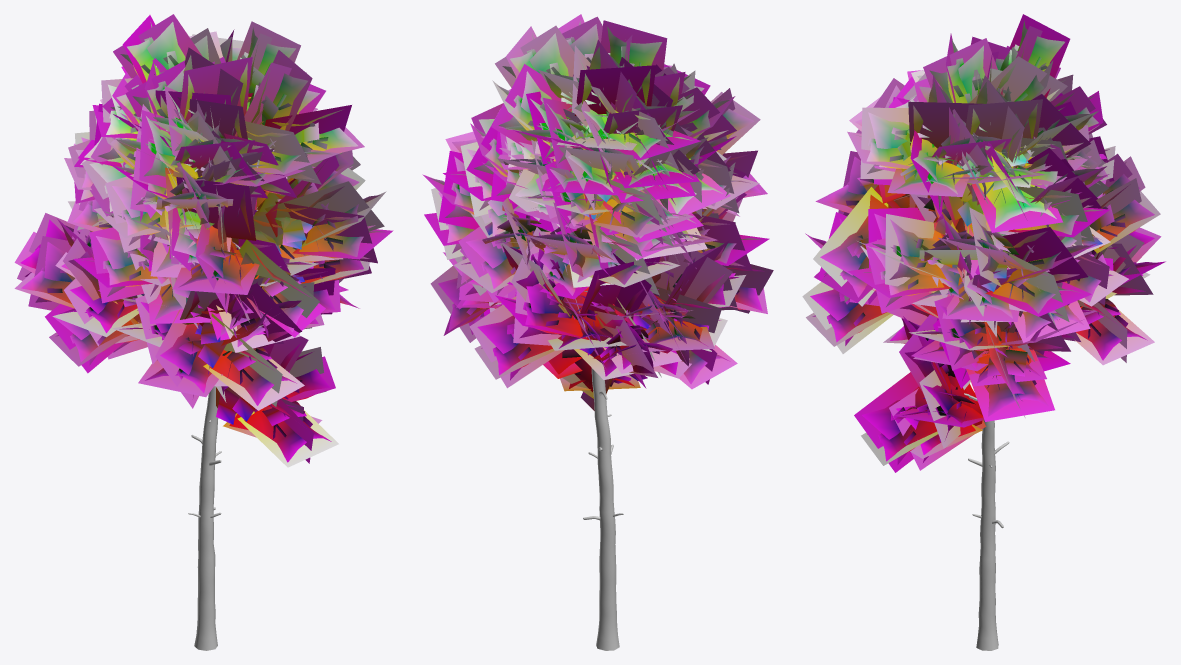
Rendered from pine_01_2.FBX.
3 views of the same model, side by side, from view 1: azimuth 30°, elevation 25°; view 2: azimuth 150°, elevation 25°; view 3: azimuth 270°, elevation 25° (orthographic).
Parts seen in each view (by area): view 1: pine_leaves_01_2_shadow, pine_leaves_01_2_lod_0, pine_tree_01_2_lod_0; view 2: pine_leaves_01_2_shadow, pine_leaves_01_2_lod_0, pine_tree_01_2_lod_0; view 3: pine_leaves_01_2_shadow, pine_leaves_01_2_lod_0, pine_tree_01_2_lod_0.
Boxes of the visible parts, x1,y1,x2,y2 form: pine_leaves_01_2_shadow: (14,14,393,467); pine_leaves_01_2_lod_0: (20,22,385,462); pine_tree_01_2_lod_0: (188,168,257,650); pine_leaves_01_2_shadow: (422,14,773,410); pine_leaves_01_2_lod_0: (428,21,764,393); pine_tree_01_2_lod_0: (583,368,623,650); pine_leaves_01_2_shadow: (802,14,1165,472); pine_leaves_01_2_lod_0: (810,21,1158,464); pine_tree_01_2_lod_0: (964,393,1009,650).
Size of what is drawn, in the model's own units: 10.19 by 19.36 by 10.4.
